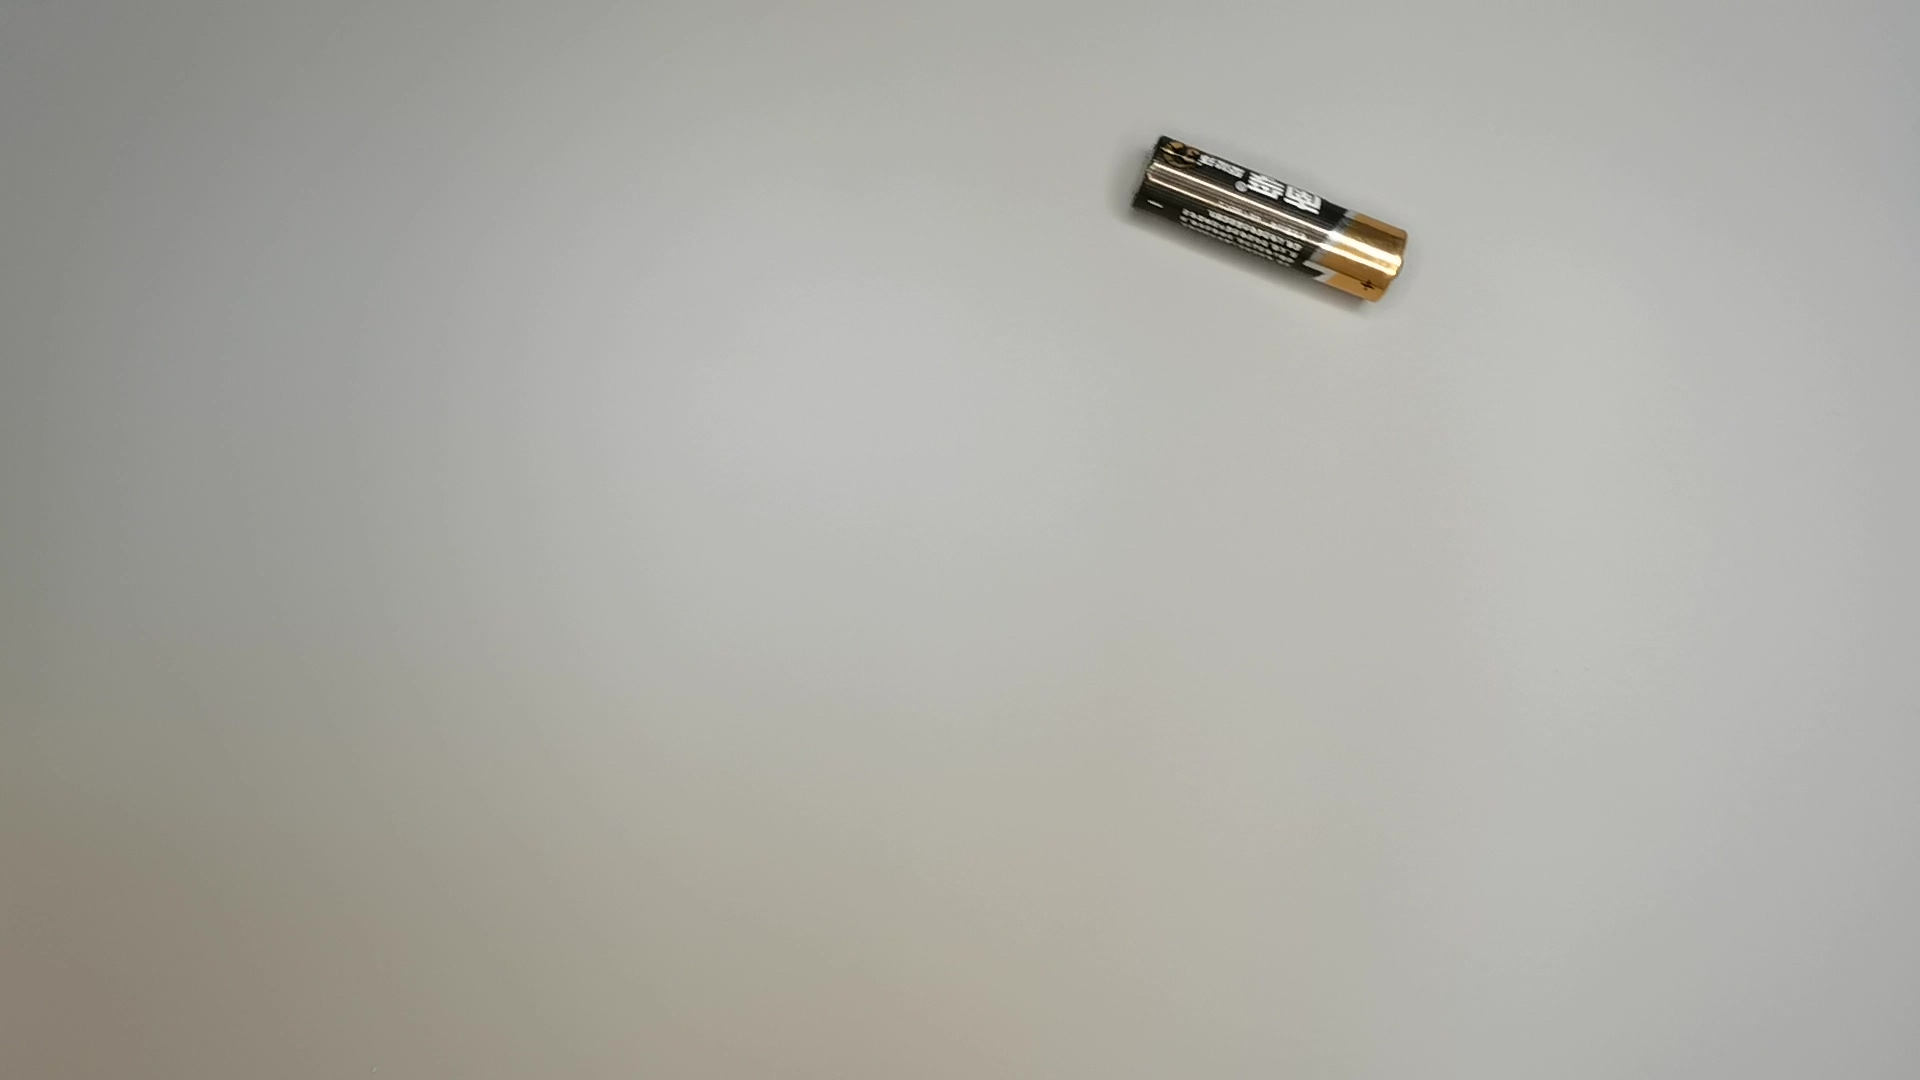battery: (1124, 131, 1414, 309)
